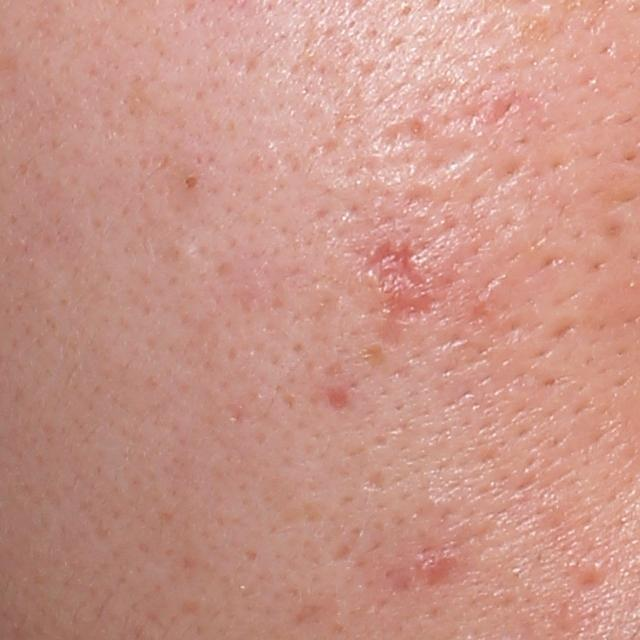atrophic_scar: (378, 115, 482, 188), (359, 238, 437, 322), (572, 569, 607, 592), (363, 469, 387, 493)
comedo: (179, 171, 200, 193)
papule: (413, 549, 456, 589)
